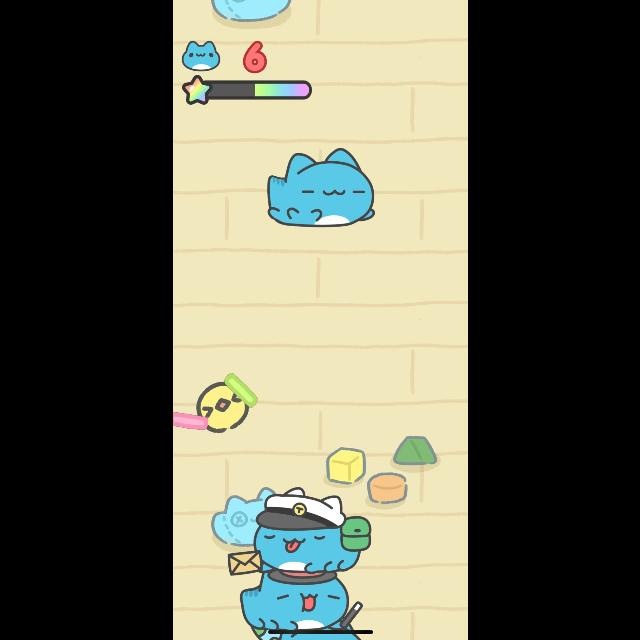capoo: (228, 486, 362, 574), (264, 144, 378, 228), (230, 574, 362, 630)
